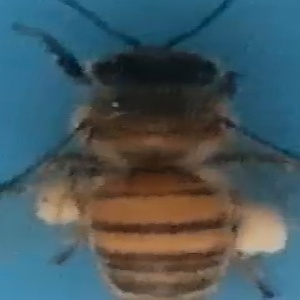bee: (35, 1, 292, 299)
